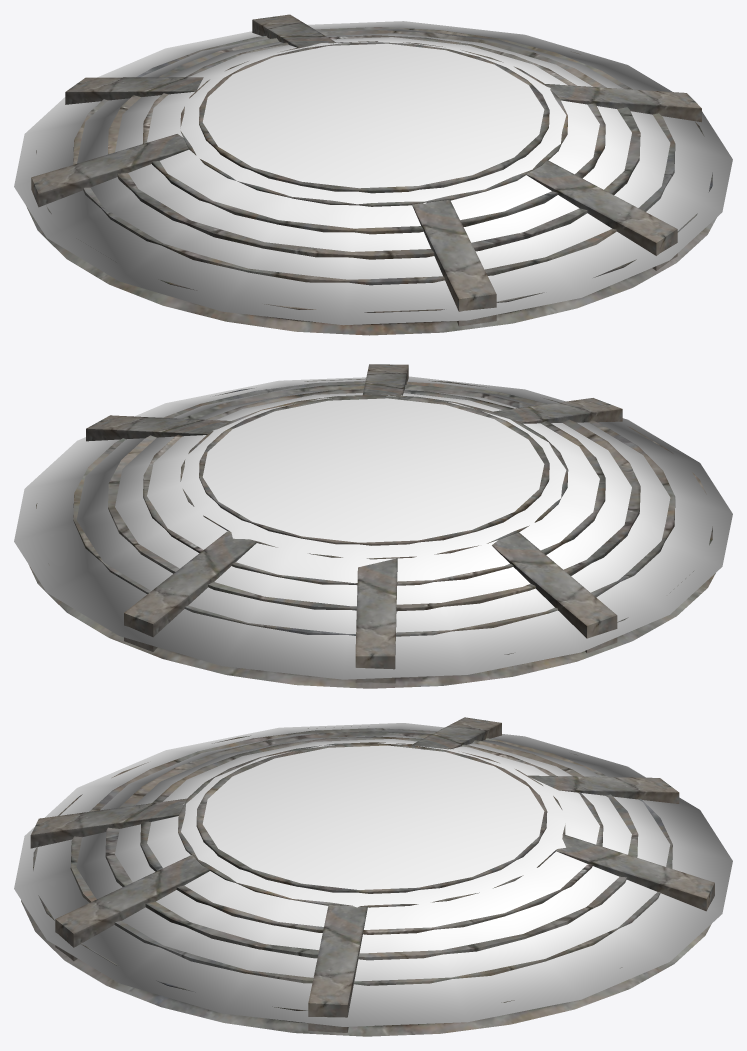
The model's file is Tower_A (2).fbx.
The picture shows the model from 3 angles, top to bottom: view 1: azimuth 30°, elevation 25°; view 2: azimuth 150°, elevation 25°; view 3: azimuth 270°, elevation 25°; orthographic projection.
Visible parts, largest first — view 1: Tower_A_PZ, Tower_A__2_; view 2: Tower_A_PZ, Tower_A__2_; view 3: Tower_A_PZ, Tower_A__2_.
Boxes of the visible parts, left/top/right/bottom form: Tower_A_PZ: left=14, top=21, right=732, bottom=325; Tower_A__2_: left=27, top=14, right=716, bottom=335; Tower_A_PZ: left=14, top=376, right=732, bottom=679; Tower_A__2_: left=28, top=364, right=715, bottom=688; Tower_A_PZ: left=14, top=723, right=732, bottom=1026; Tower_A__2_: left=21, top=717, right=714, bottom=1036.
Bounding box in the file's own units: 1641 × 180 × 1640.
